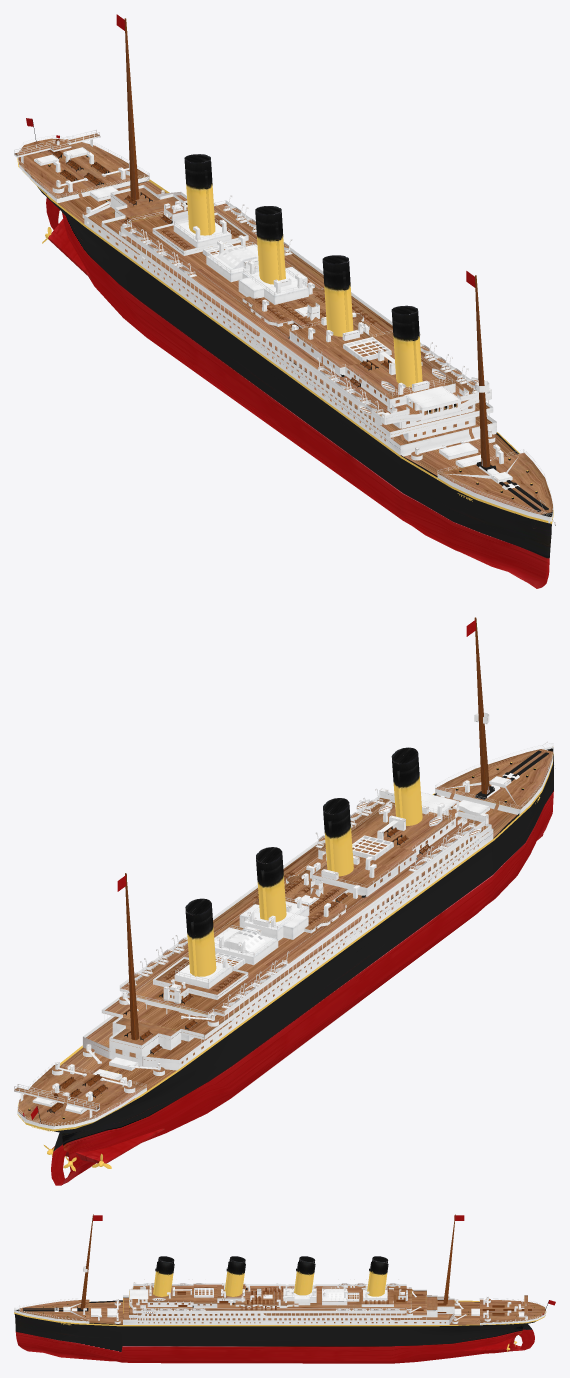
3 renders of one model, top to bottom at view 1: azimuth 30°, elevation 25°; view 2: azimuth 150°, elevation 25°; view 3: azimuth 270°, elevation 25°, orthographic. The views are drawn at different scales.
Visible parts, largest first — view 1: Object_2; view 2: Object_2; view 3: Object_2.
Boxes of the visible parts, box(x1,y1,x2,y2) form: Object_2: box(14, 14, 555, 588); Object_2: box(14, 617, 553, 1185); Object_2: box(14, 1214, 555, 1363).
Bounding box in the file's own units: 25.66 × 55.61 × 195.
1 material, 1 textured.
